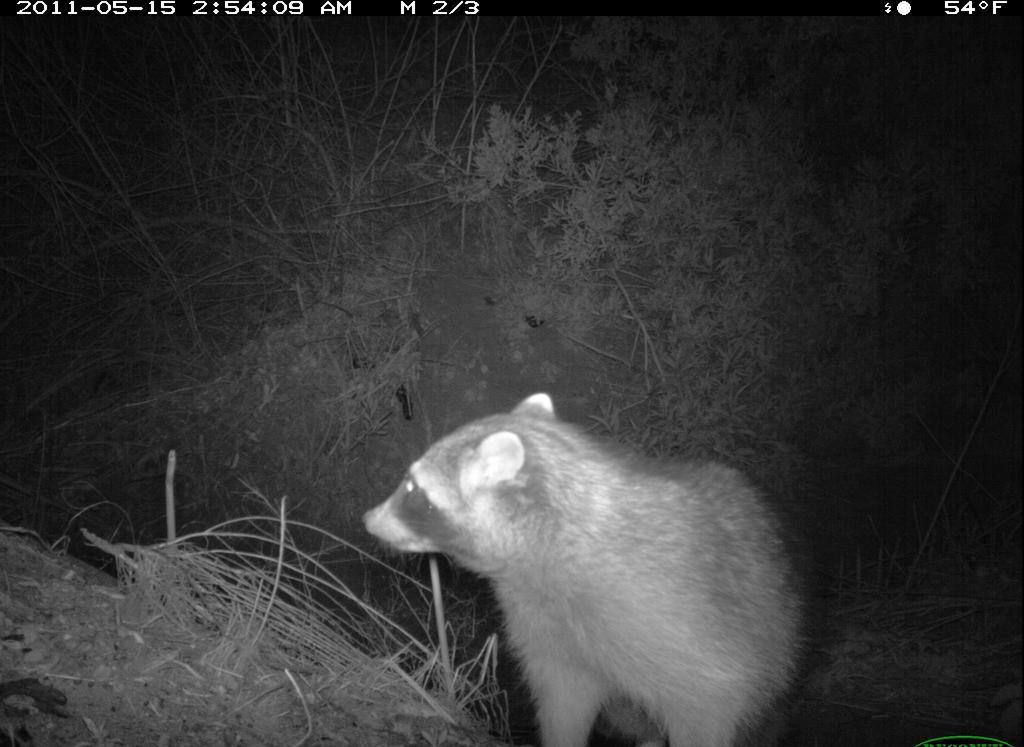raccoon: (349, 385, 811, 747)
